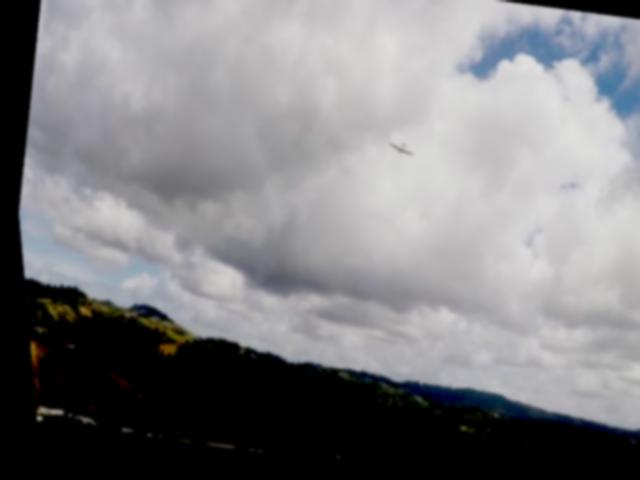uav: (382, 140, 413, 164)
